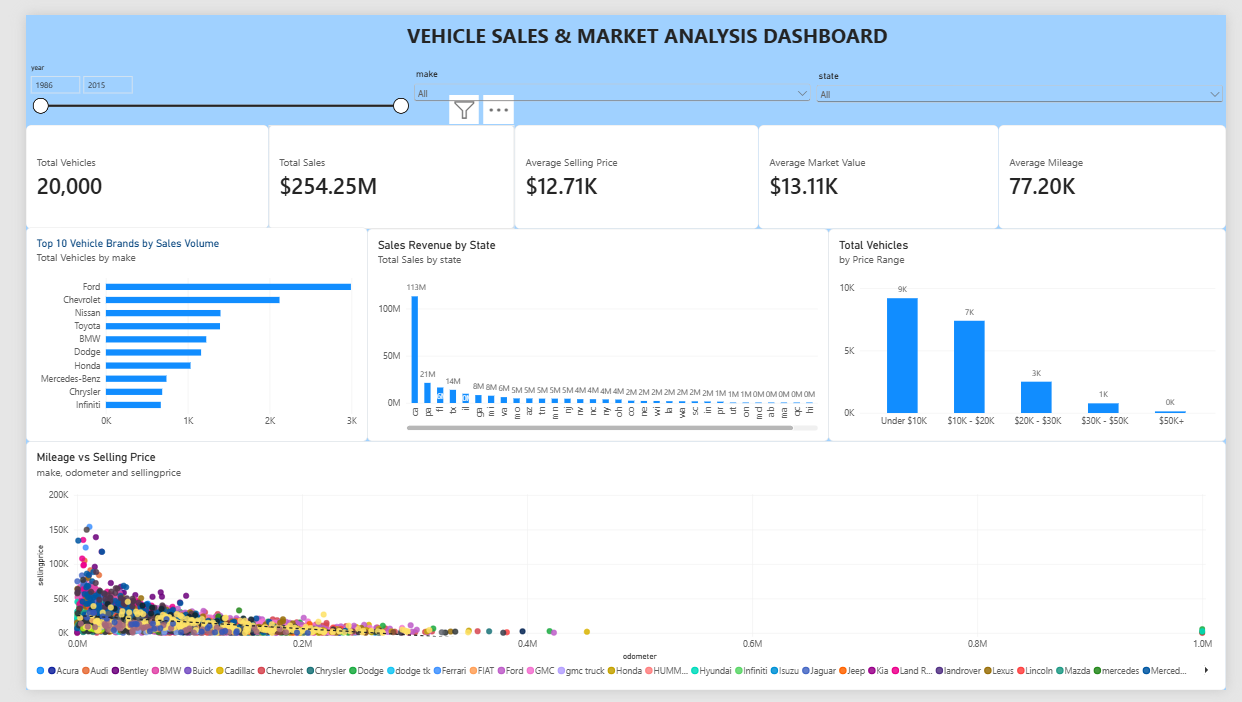

Layout of this report page (visuals, bound fields, positions):
{"tool":"powerbi","page":{"name":"Page 1","canvas":[1920,1080],"ordinal":0},"visuals":[{"type":"cardVisual","fields":{"Data":["Vehicle Sales.Total Vehicles"]},"box":[0,176,388,166],"z":0},{"type":"cardVisual","fields":{"Data":["Vehicle Sales.Total Sales"]},"box":[388,176,394,166],"z":1000},{"type":"cardVisual","fields":{"Data":["Vehicle Sales.Average Selling Price"]},"box":[782,176,390,166],"z":2000},{"type":"cardVisual","fields":{"Data":["Vehicle Sales.Average Market Value"]},"box":[1172,176,384,166],"z":3000},{"type":"cardVisual","fields":{"Data":["Vehicle Sales.Average Mileage"]},"box":[1556,176,364,166],"z":4000},{"type":"clusteredBarChart","title":"Top 10 Vehicle Brands by Sales Volume","fields":{"Category":["Vehicle Sales.make"],"Y":["Vehicle Sales.Total Vehicles"]},"box":[0,340,546,342],"z":5000},{"type":"clusteredColumnChart","title":"Sales Revenue by State","fields":{"Category":["Vehicle Sales.state"],"Y":["Vehicle Sales.Total Sales"]},"box":[546,342,738,340],"z":6000},{"type":"clusteredColumnChart","fields":{"Category":["Vehicle Sales.Price Range"],"Y":["Vehicle Sales.Total Vehicles"]},"box":[1284,342,636,340],"z":7000},{"type":"scatterChart","title":"Mileage vs Selling Price","fields":{"Series":["Vehicle Sales.make"],"X":["Vehicle Sales.odometer"],"Y":["Vehicle Sales.sellingprice"]},"box":[0,682,1920,398],"z":8000},{"type":"slicer","fields":{"Values":["Vehicle Sales.year"]},"box":[0,78,616,98],"z":9000},{"type":"slicer","fields":{"Values":["Vehicle Sales.make"]},"box":[616,86,644,90],"z":10000},{"type":"slicer","fields":{"Values":["Vehicle Sales.state"]},"box":[1260,88,660,88],"z":11000},{"type":"textbox","title":"Top 10 Vehicle Brands by Sales Volume","box":[546,10,896,68],"z":11001}]}

Visuals, with their boxes in screenshot pixels (x1, y1, x2, y2), scaled from the page's 1920x1080 canvas onto the 1242x702 screenshot:
cardVisual - Vehicle Sales.Total Vehicles: x1=0, y1=114, x2=251, y2=222
cardVisual - Vehicle Sales.Total Sales: x1=251, y1=114, x2=506, y2=222
cardVisual - Vehicle Sales.Average Selling Price: x1=506, y1=114, x2=758, y2=222
cardVisual - Vehicle Sales.Average Market Value: x1=758, y1=114, x2=1007, y2=222
cardVisual - Vehicle Sales.Average Mileage: x1=1007, y1=114, x2=1241, y2=222
"Top 10 Vehicle Brands by Sales Volume" clusteredBarChart: x1=0, y1=221, x2=353, y2=443
"Sales Revenue by State" clusteredColumnChart: x1=353, y1=222, x2=831, y2=443
clusteredColumnChart - Vehicle Sales.Price Range x Vehicle Sales.Total Vehicles: x1=831, y1=222, x2=1241, y2=443
"Mileage vs Selling Price" scatterChart: x1=0, y1=443, x2=1241, y2=701
slicer - Vehicle Sales.year: x1=0, y1=51, x2=398, y2=114
slicer - Vehicle Sales.make: x1=398, y1=56, x2=815, y2=114
slicer - Vehicle Sales.state: x1=815, y1=57, x2=1241, y2=114
"Top 10 Vehicle Brands by Sales Volume" textbox: x1=353, y1=6, x2=933, y2=51
